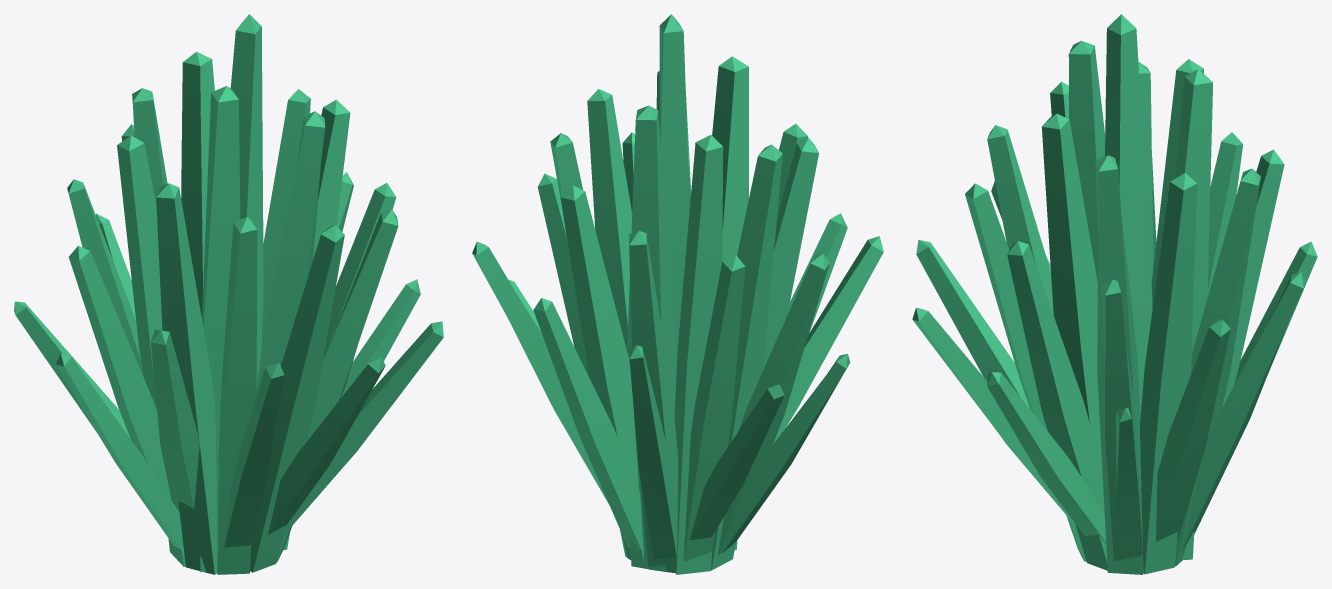
File: coral_diamonds_A_dense.fbx
3 renders of one model, left to right at view 1: azimuth 30°, elevation 25°; view 2: azimuth 150°, elevation 25°; view 3: azimuth 270°, elevation 25°, orthographic. The views are drawn at different scales.
Parts seen in each view (by area): view 1: coral_diamonds_A_dense; view 2: coral_diamonds_A_dense; view 3: coral_diamonds_A_dense.
Part boxes in pixels (<box>): coral_diamonds_A_dense: <box>14,14,443,574</box>; coral_diamonds_A_dense: <box>472,14,883,574</box>; coral_diamonds_A_dense: <box>912,14,1317,574</box>.
Bounding box in the file's own units: 71.92 × 104 × 70.08.
